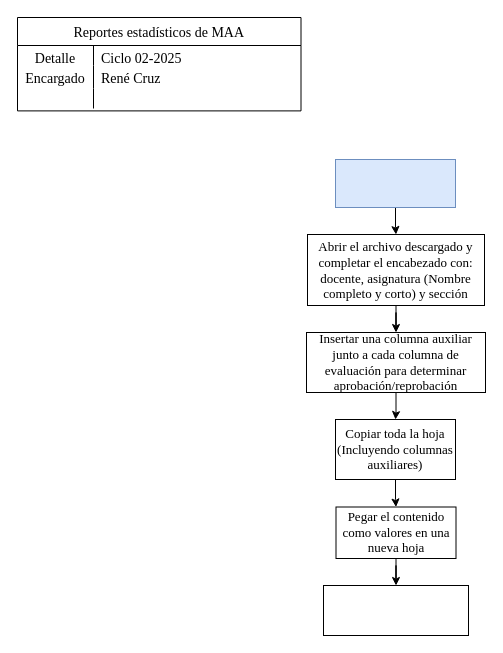
The diagram is 503 pixels wide and 653 high, and some of its shapes have lost their labels. Here are the shapes that lost their labels. From the top down, the centre of each, then its label:
At point (395, 183): "Edición y Preparación del Archivo Excel".
At point (395, 610): "Repetir el procedimiento para cada sección de la asignatura".
